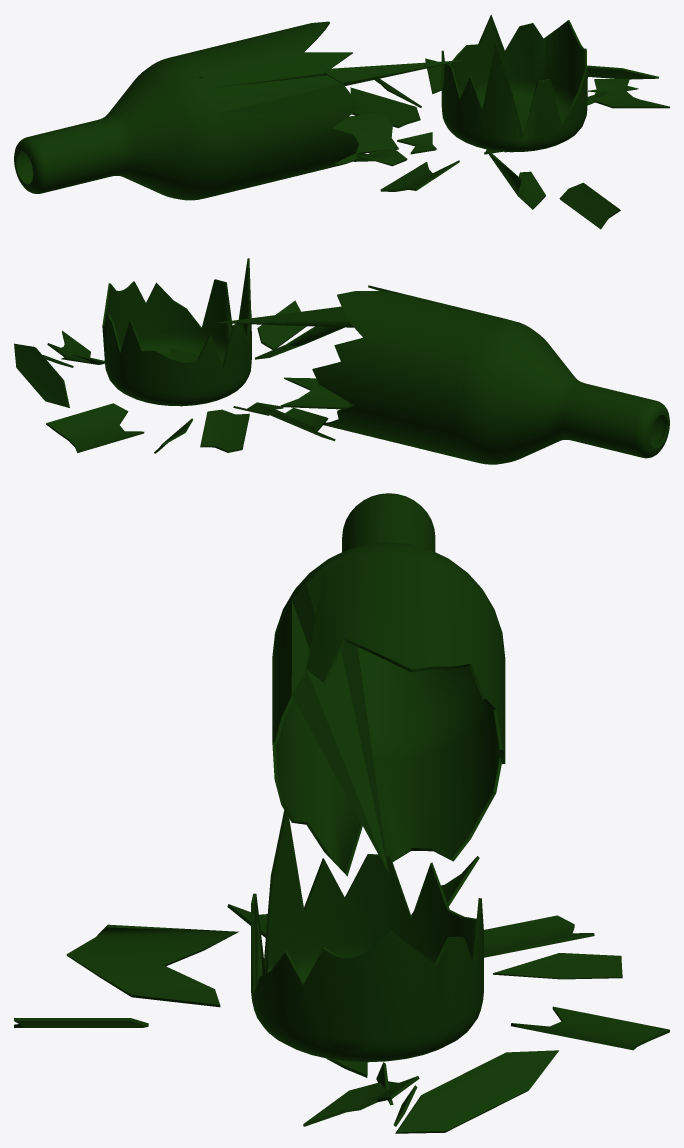
File: botol kaca pecah 1.fbx
The picture shows the model from 3 angles, top to bottom: view 1: azimuth 30°, elevation 25°; view 2: azimuth 150°, elevation 25°; view 3: azimuth 270°, elevation 25°; orthographic projection. The views are drawn at different scales.
Parts seen in each view (by area): view 1: botol kaca pecah atas, botol kaca pecah bawah, pecahan botol 4, pecahan botol 6, pecahan botol 5, pecahan botol 8, pecahan botol 1, pecahan botol 2, pecahan botol 9, pecahan botol 12, pecahan botol 3, pecahan botol 10; view 2: botol kaca pecah atas, botol kaca pecah bawah, pecahan botol 10, pecahan botol 9, pecahan botol 5, pecahan botol 2, pecahan botol 6, pecahan botol 1, pecahan botol 8, pecahan botol 4, pecahan botol 12; view 3: botol kaca pecah atas, botol kaca pecah bawah, pecahan botol 1, pecahan botol 9, pecahan botol 10, pecahan botol 5, pecahan botol 11, pecahan botol 8, pecahan botol 6.
Part boxes in pixels (bbox=[...]): botol kaca pecah atas: bbox=[14, 21, 463, 200]; botol kaca pecah bawah: bbox=[441, 15, 587, 152]; pecahan botol 4: bbox=[333, 112, 398, 153]; pecahan botol 6: bbox=[559, 182, 620, 229]; pecahan botol 5: bbox=[350, 87, 420, 128]; pecahan botol 8: bbox=[594, 79, 669, 108]; pecahan botol 1: bbox=[486, 149, 545, 209]; pecahan botol 2: bbox=[380, 160, 459, 191]; pecahan botol 9: bbox=[587, 65, 658, 79]; pecahan botol 12: bbox=[353, 149, 407, 166]; pecahan botol 3: bbox=[397, 132, 436, 154]; pecahan botol 10: bbox=[425, 58, 449, 94]; botol kaca pecah atas: bbox=[216, 285, 669, 464]; botol kaca pecah bawah: bbox=[102, 258, 251, 406]; pecahan botol 10: bbox=[46, 403, 144, 452]; pecahan botol 9: bbox=[14, 343, 69, 407]; pecahan botol 5: bbox=[200, 409, 249, 452]; pecahan botol 2: bbox=[280, 377, 352, 409]; pecahan botol 6: bbox=[257, 300, 306, 349]; pecahan botol 1: bbox=[255, 326, 344, 359]; pecahan botol 8: bbox=[47, 330, 90, 362]; pecahan botol 4: bbox=[259, 403, 335, 441]; pecahan botol 12: bbox=[285, 407, 328, 431]; botol kaca pecah atas: bbox=[272, 493, 505, 876]; botol kaca pecah bawah: bbox=[251, 806, 483, 1062]; pecahan botol 1: bbox=[66, 924, 238, 1007]; pecahan botol 9: bbox=[395, 1050, 558, 1133]; pecahan botol 10: bbox=[511, 1006, 669, 1050]; pecahan botol 5: bbox=[484, 915, 594, 957]; pecahan botol 11: bbox=[493, 953, 622, 979]; pecahan botol 8: bbox=[303, 1076, 419, 1126]; pecahan botol 6: bbox=[14, 1018, 148, 1027].
Size of the model in its own units: 363 by 83.86 by 203.
